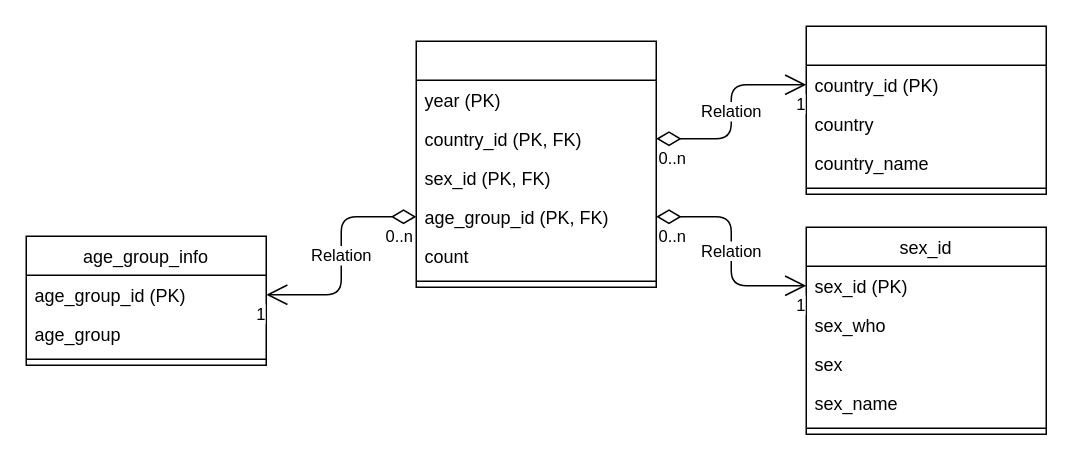
Image size: 1073x461. Some labels were removed from this diagram. Here are the shapes that lost their labels. From the top down, the box of each, then its label:
(805, 25, 1046, 194): country_info
(415, 40, 656, 287): tb_counts
